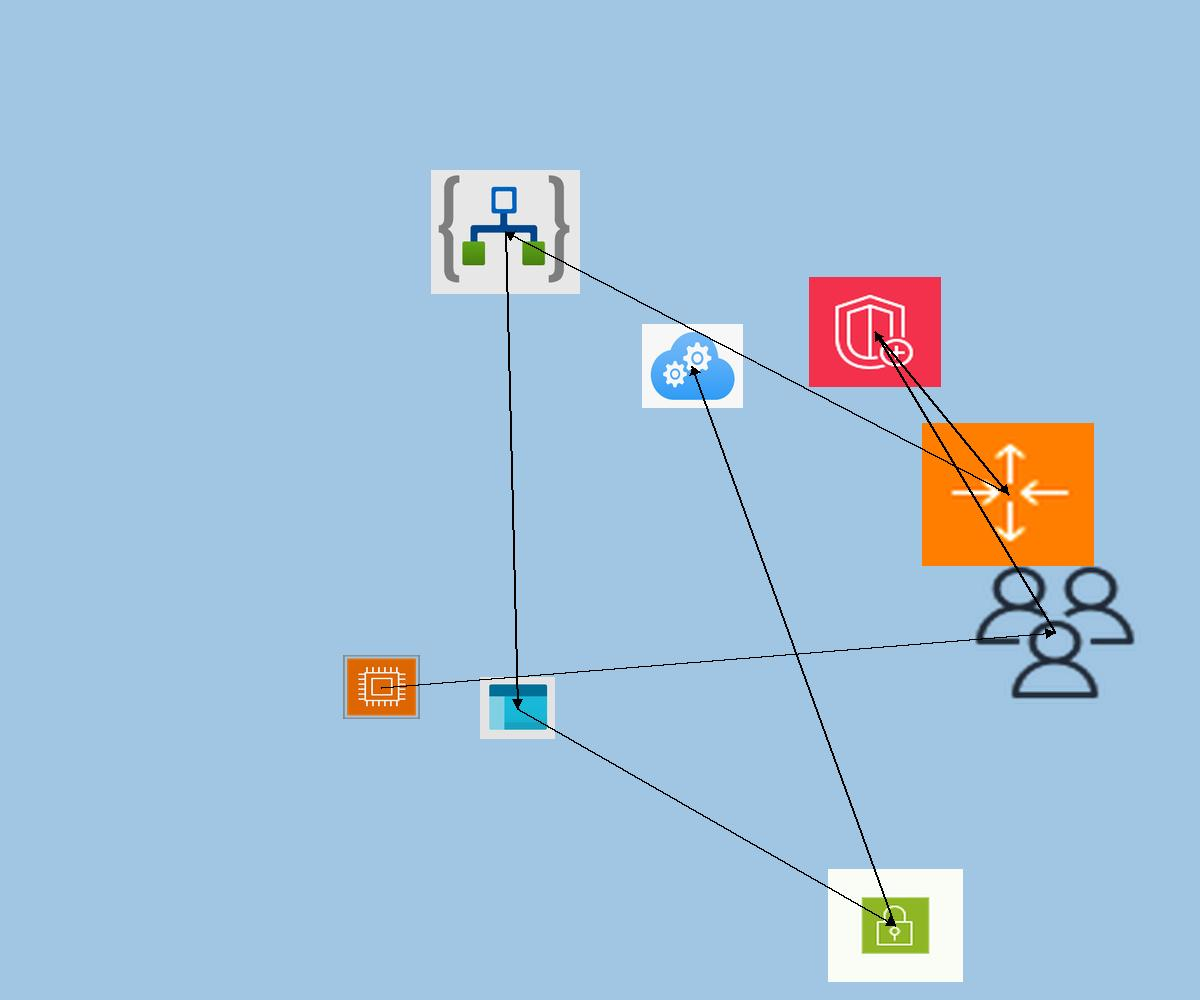AWS-Category_Compute: (343, 655, 420, 719)
AWS-Public-subnet: (828, 869, 963, 982)
AWS-Res_Users: (969, 561, 1141, 704)
AWS-Scaling-group: (922, 423, 1094, 566)
AWS-Shield: (809, 277, 941, 387)
Azure_cloud_services: (642, 324, 743, 408)
Azure_integration-204-Logic-Apps: (431, 170, 580, 294)
Azure_management-portal: (480, 677, 555, 739)
